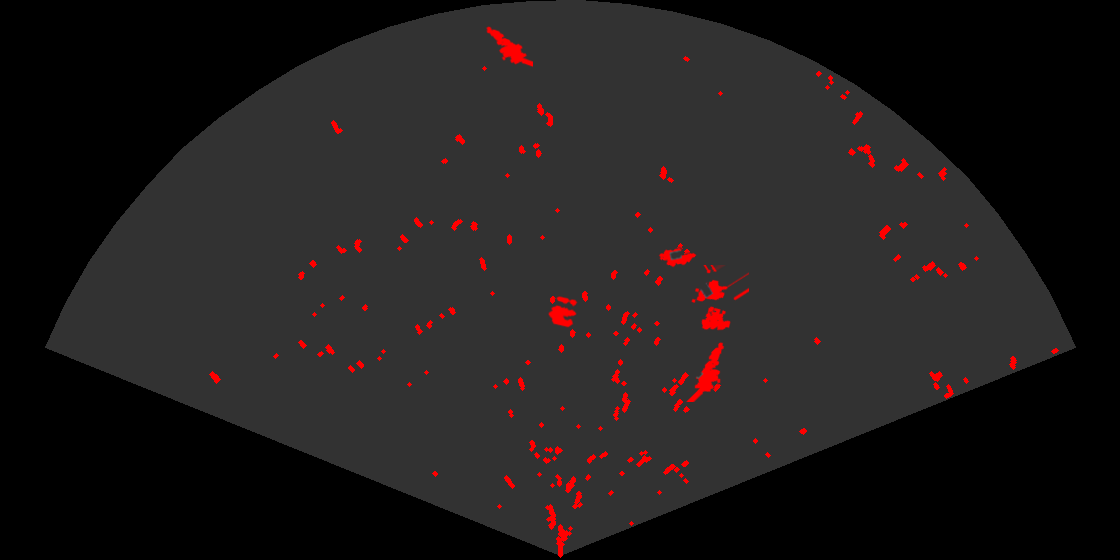AUV: (657, 246, 698, 269)
ball: (547, 295, 579, 329)
cage: (690, 265, 749, 332)
frogman: (685, 341, 726, 402), (484, 25, 533, 69)
